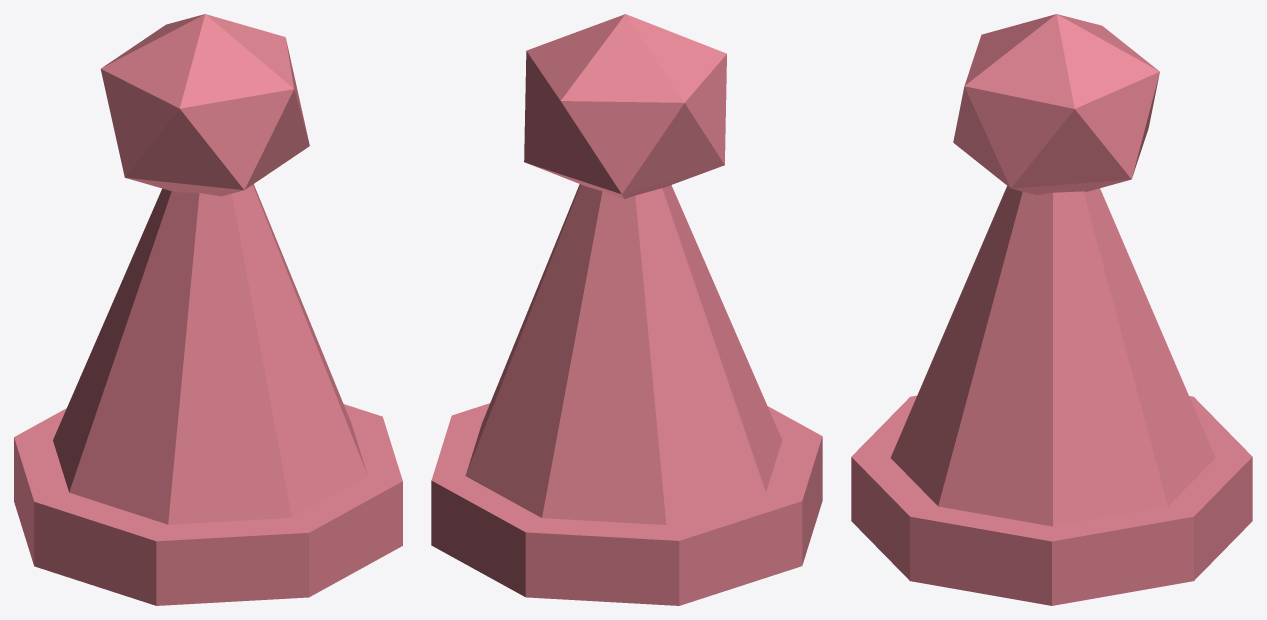
The model's file is pawn-red.glb.
3 renders of one model, left to right at view 1: azimuth 30°, elevation 25°; view 2: azimuth 150°, elevation 25°; view 3: azimuth 270°, elevation 25°, orthographic.
Parts seen in each view (by area): view 1: Cylinder.002; view 2: Cylinder.002; view 3: Cylinder.002.
Part boxes in pixels (<box>): Cylinder.002: <box>14,14,402,605</box>; Cylinder.002: <box>431,14,822,605</box>; Cylinder.002: <box>851,14,1252,605</box>.
Bounding box in the file's own units: 10914 × 15210 × 10914.
